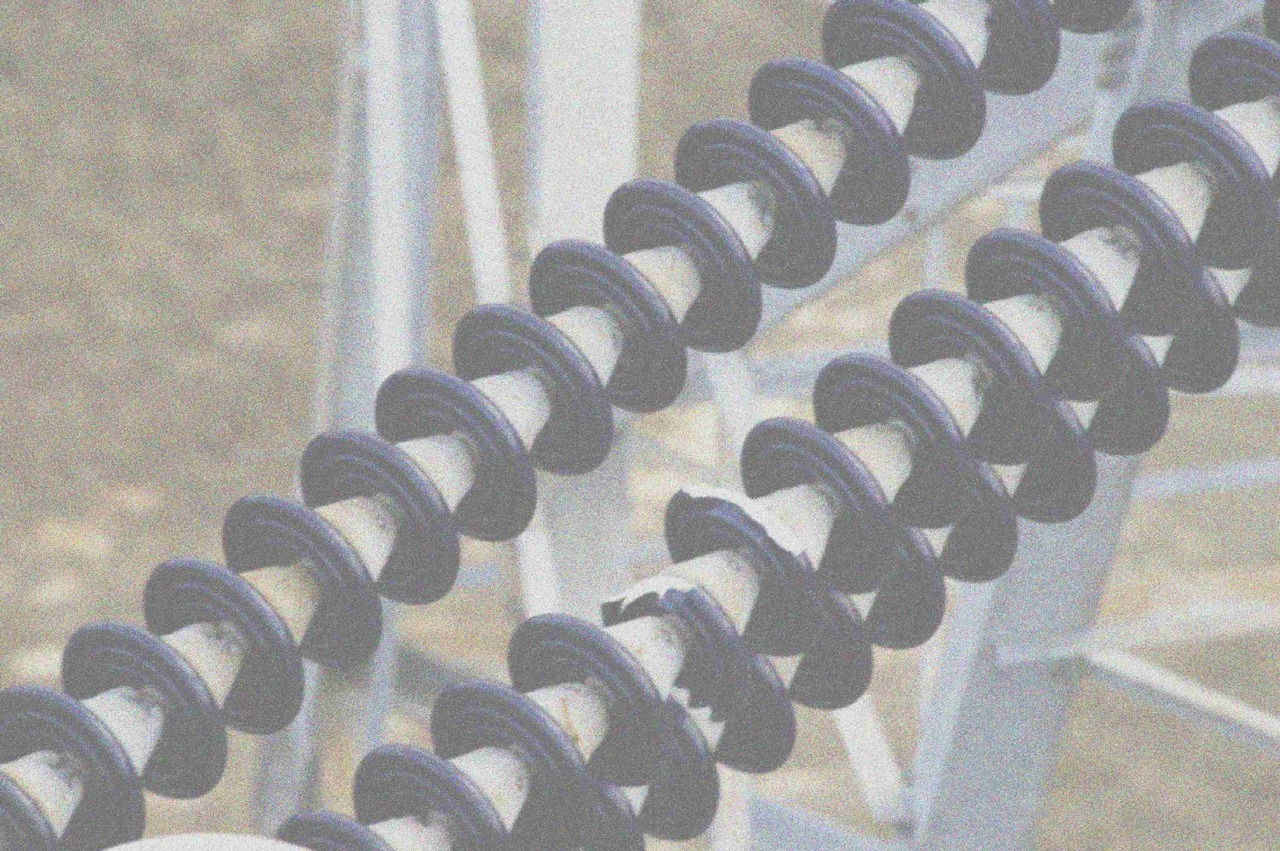Broken: (656, 476, 834, 658), (591, 553, 757, 727)
No issues: (950, 224, 1139, 410), (884, 285, 1072, 471), (1023, 157, 1211, 343), (426, 667, 602, 851), (809, 349, 984, 533), (505, 612, 680, 796), (1108, 89, 1280, 275), (58, 619, 229, 800), (591, 177, 762, 357), (371, 365, 542, 545), (292, 426, 463, 606), (219, 492, 390, 672), (666, 114, 838, 292), (140, 558, 310, 738), (742, 52, 914, 229), (524, 236, 689, 418), (813, 0, 990, 166), (0, 680, 152, 851)
String: (11, 11, 1271, 844)
